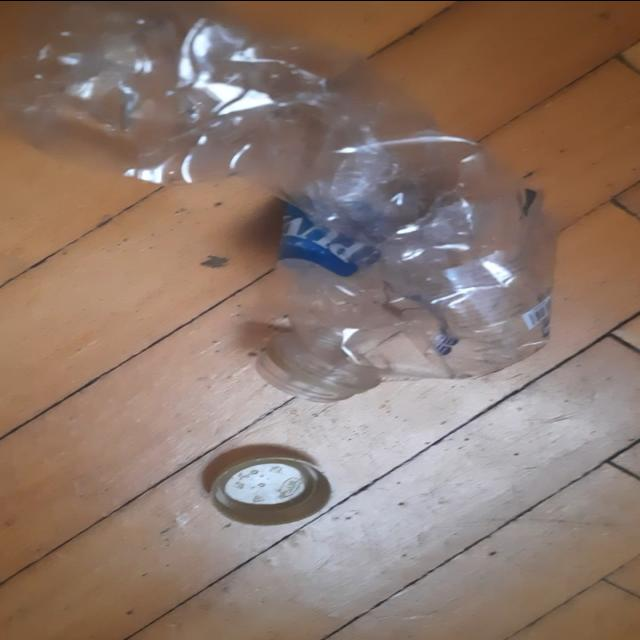Plastic: (2, 2, 554, 401), (251, 130, 553, 402)
